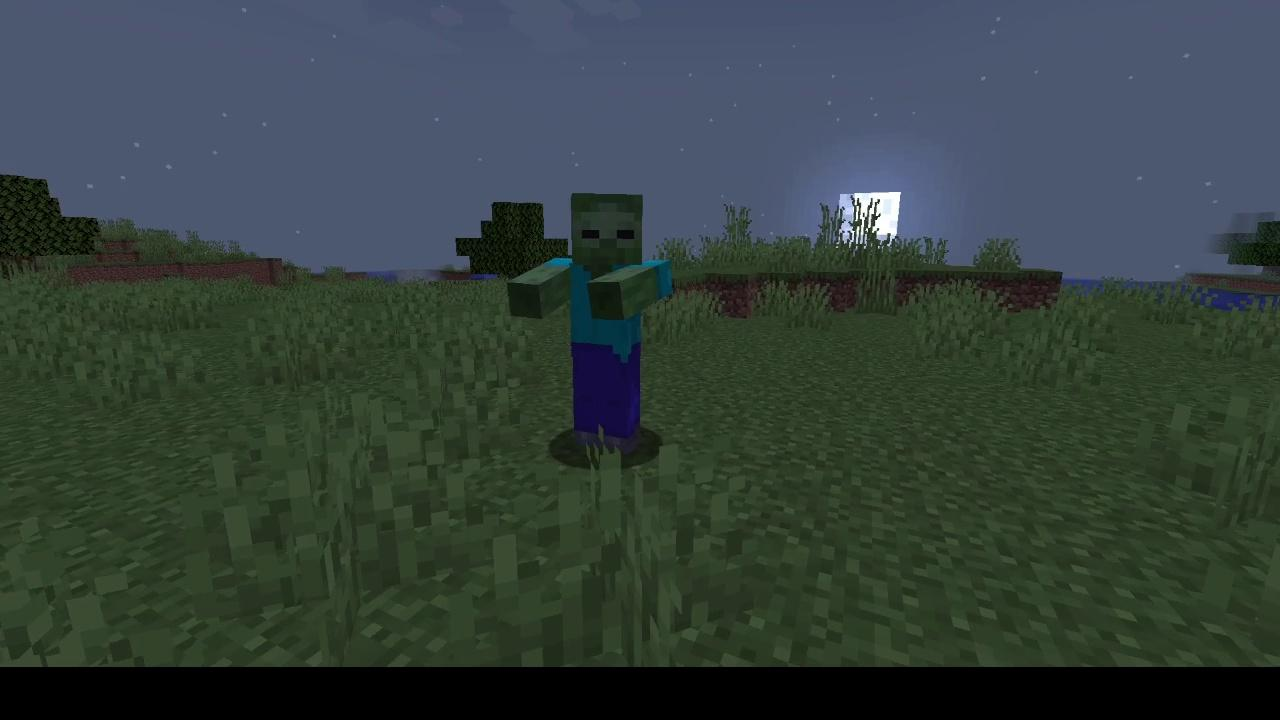zombie: (504, 190, 678, 463)
